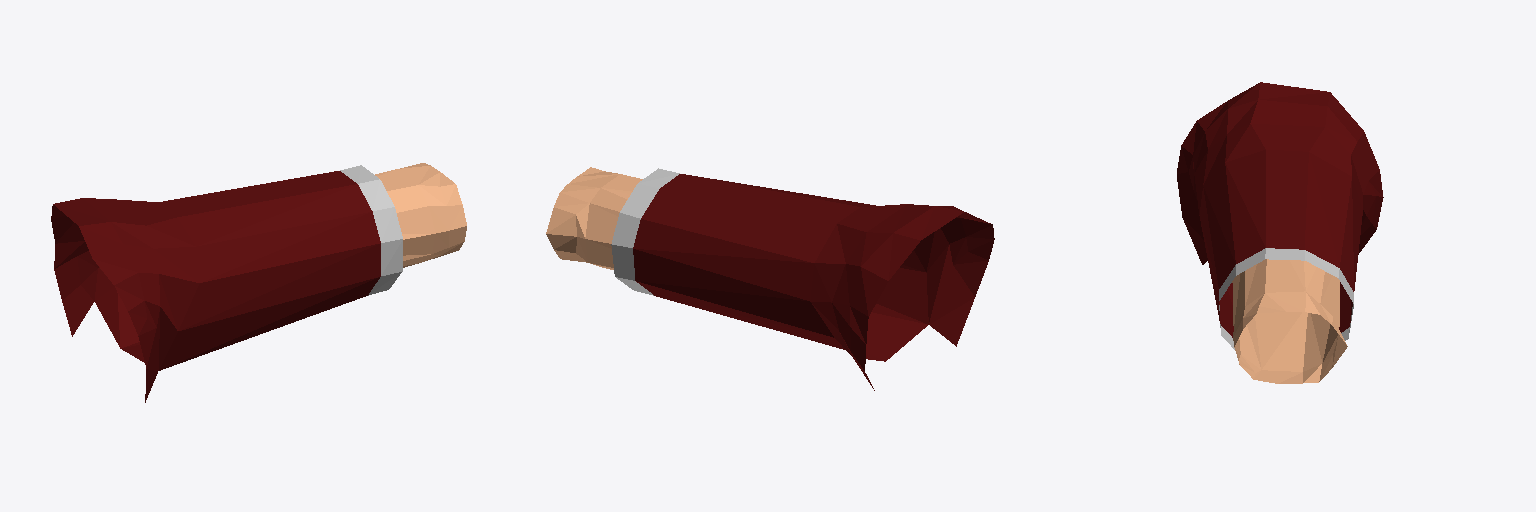
Rendered from pi_Porl_Arm_Left.obj.
3 views of the same model, side by side, from view 1: azimuth 30°, elevation 25°; view 2: azimuth 150°, elevation 25°; view 3: azimuth 270°, elevation 25° (orthographic).
Visible parts, largest first — view 1: T-Shirt_Plane.023, Character_Mesh_Plane.001; view 2: T-Shirt_Plane.023, Character_Mesh_Plane.001; view 3: T-Shirt_Plane.023, Character_Mesh_Plane.001.
Boxes of the visible parts, box(x1,y1,x2,y2) form: T-Shirt_Plane.023: box(51, 165, 402, 402); Character_Mesh_Plane.001: box(375, 163, 466, 267); T-Shirt_Plane.023: box(611, 168, 994, 390); Character_Mesh_Plane.001: box(546, 167, 642, 269); T-Shirt_Plane.023: box(1177, 82, 1383, 349); Character_Mesh_Plane.001: box(1232, 259, 1347, 383).
Bounding box in the file's own units: 1.07 × 0.4447 × 0.5052.